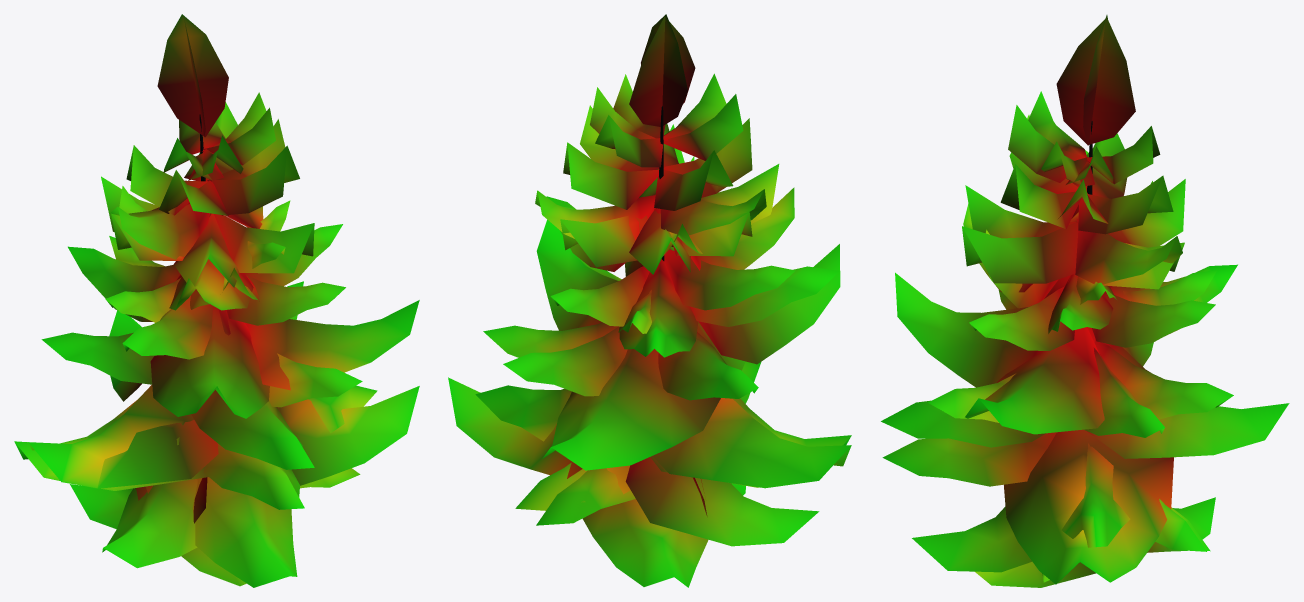
File: Spruce_Small_4.fbx
The picture shows the model from 3 angles, left to right: view 1: azimuth 30°, elevation 25°; view 2: azimuth 150°, elevation 25°; view 3: azimuth 270°, elevation 25°; orthographic projection. The views are drawn at different scales.
Visible parts, largest first — view 1: Spruce_Small_4; view 2: Spruce_Small_4; view 3: Spruce_Small_4.
Boxes of the visible parts, bbox=[...] form: Spruce_Small_4: bbox=[14, 14, 419, 587]; Spruce_Small_4: bbox=[448, 14, 851, 587]; Spruce_Small_4: bbox=[881, 15, 1289, 587].
Size of the model in its own units: 2.72 by 3.48 by 2.33.
